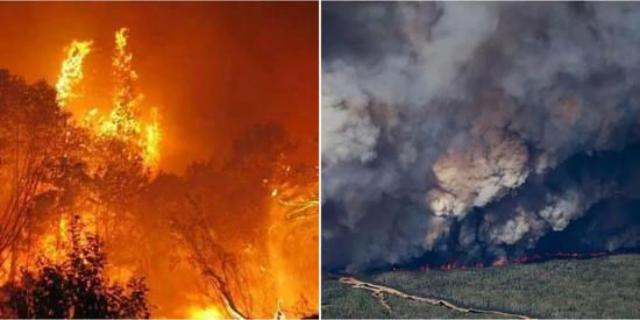fire: (110, 30, 140, 138), (35, 213, 73, 270), (54, 34, 82, 106), (140, 110, 168, 178), (176, 302, 218, 318)
